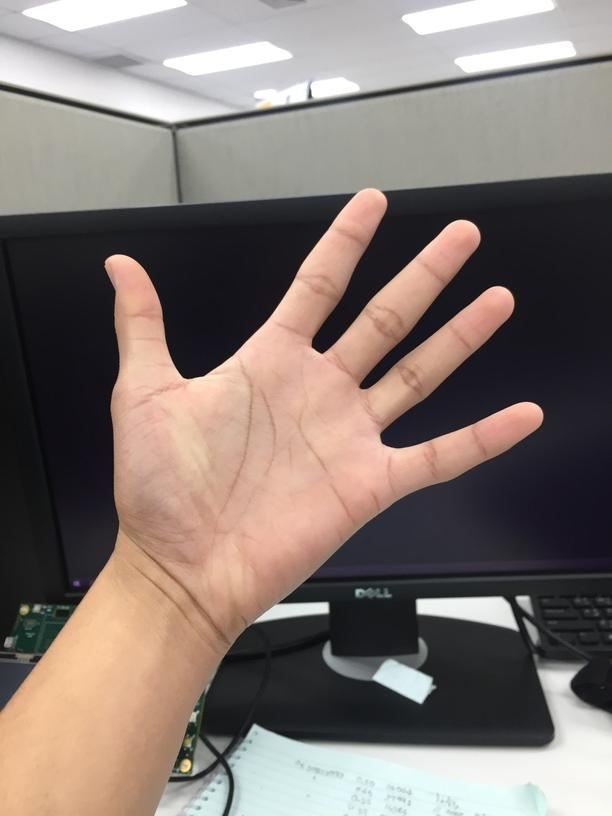hand: (101, 186, 546, 628)
